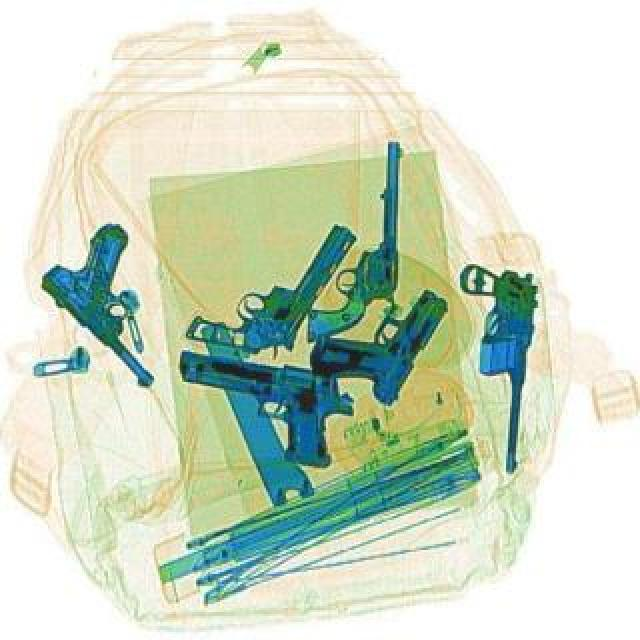gun: (186, 194, 368, 386), (34, 222, 222, 398), (302, 262, 460, 416), (170, 354, 362, 474), (310, 142, 406, 352), (448, 268, 544, 476)
